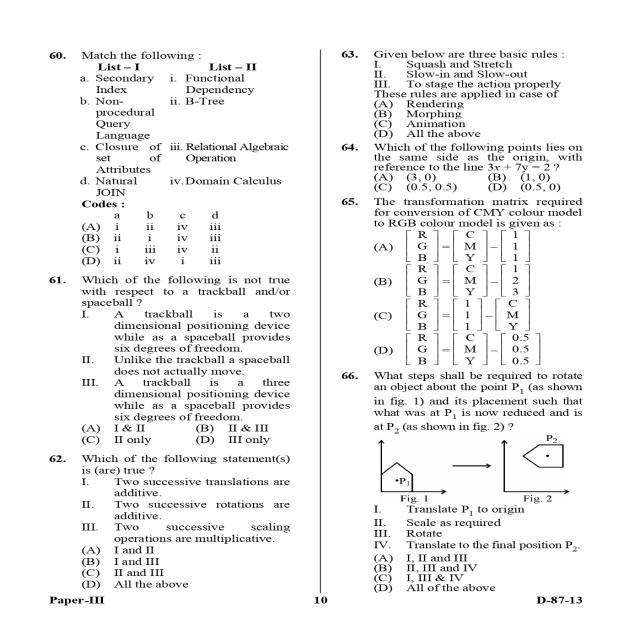Answer_Block: (336, 228, 586, 368), (46, 198, 307, 268), (45, 542, 307, 592), (336, 551, 586, 595), (337, 101, 586, 140), (45, 422, 307, 448), (336, 172, 586, 194)
Question_Answer_Block: (46, 46, 307, 268), (336, 370, 586, 594), (45, 271, 307, 448), (336, 195, 586, 367), (45, 452, 307, 592), (337, 48, 586, 140), (336, 140, 586, 193)
Question_Block: (336, 369, 586, 550), (45, 270, 307, 422), (46, 46, 307, 196), (45, 452, 307, 544), (337, 48, 586, 100), (336, 194, 586, 228), (336, 140, 586, 170)
Question_Paper_Area: (46, 47, 307, 593), (336, 47, 586, 595)
